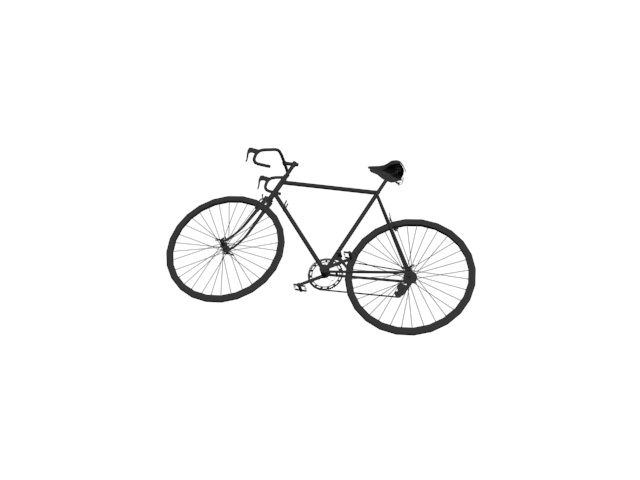bike: (161, 145, 480, 336)
